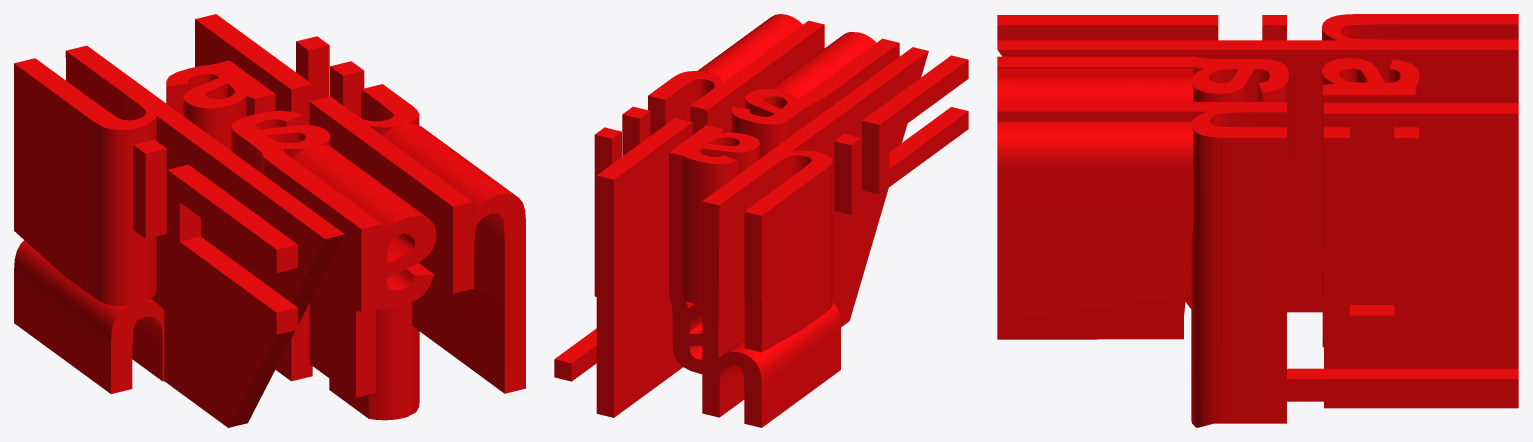
Rendered from blocks-8.dae.
The picture shows the model from 3 angles, left to right: view 1: azimuth 30°, elevation 25°; view 2: azimuth 150°, elevation 25°; view 3: azimuth 270°, elevation 25°; orthographic projection. The views are drawn at different scales.
Visible parts, largest first — view 1: SketchUp (×18); view 2: SketchUp (×12); view 3: SketchUp (×11).
Boxes of the visible parts, box(x1,y1,x2,y2) form: SketchUp (×18): box(14, 14, 525, 427); SketchUp (×12): box(555, 14, 968, 427); SketchUp (×11): box(997, 14, 1518, 427).
Size of the model in its own units: 8.92 by 15.7 by 9.86.
